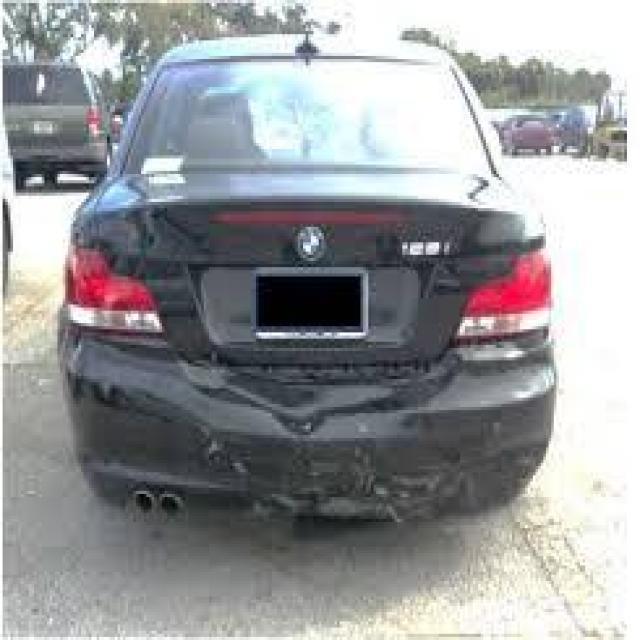damaged: (196, 426, 499, 518)
